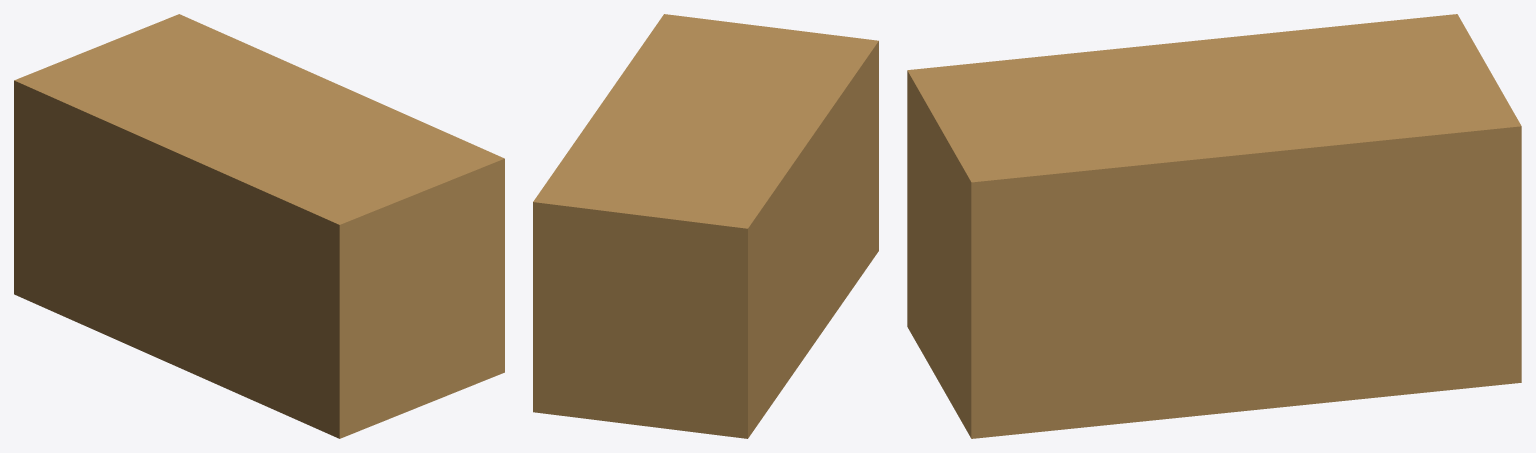
The picture shows the model from 3 angles, left to right: view 1: azimuth 30°, elevation 25°; view 2: azimuth 150°, elevation 25°; view 3: azimuth 270°, elevation 25°; orthographic projection. The views are drawn at different scales.
Visible parts, largest first — view 1: RUN-018-S00-NOG-01; view 2: RUN-018-S00-NOG-01; view 3: RUN-018-S00-NOG-01.
Part boxes in pixels (x1,y1,x2,y2): RUN-018-S00-NOG-01: (14,14,504,438); RUN-018-S00-NOG-01: (533,14,878,438); RUN-018-S00-NOG-01: (907,14,1521,438).
Size of the model in its own units: 0.0634 by 0.045 by 0.0977.
